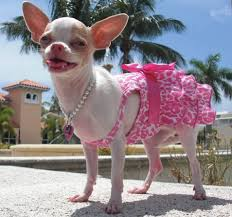chihuahua: (18, 1, 228, 217)
